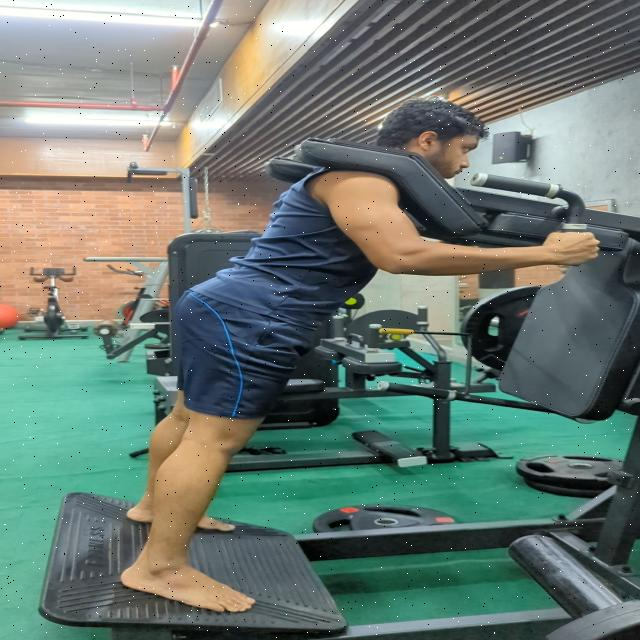Normal_SquatsWithBarbell: (126, 86, 620, 640)
